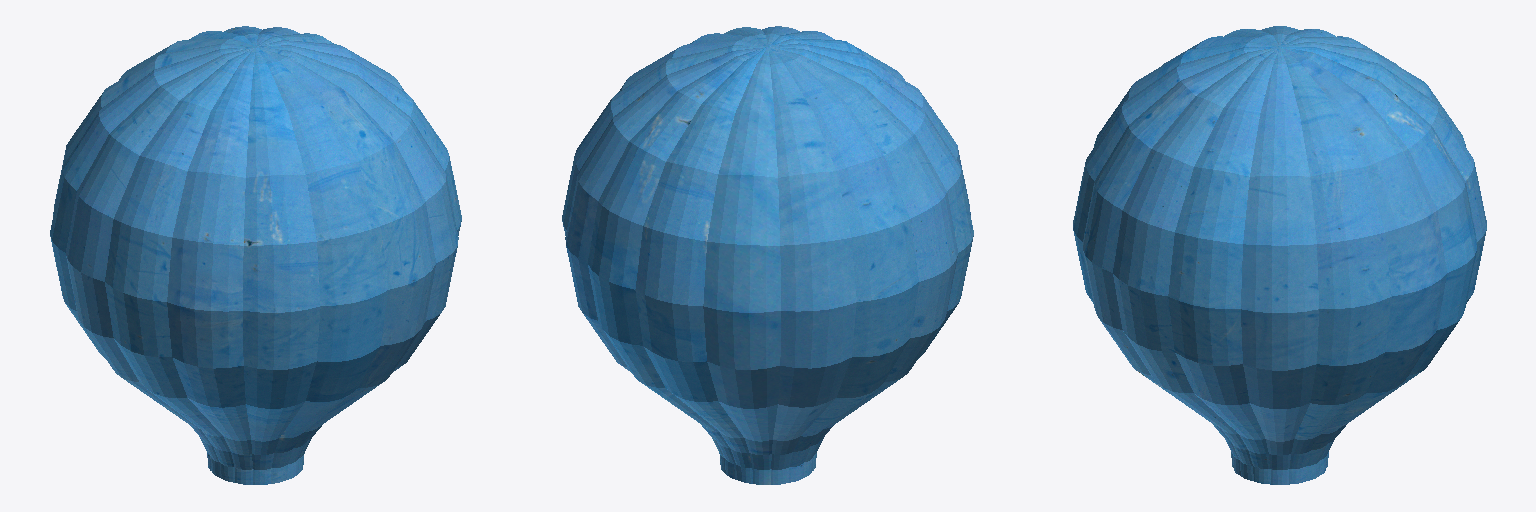
3 views of the same model, side by side, from view 1: azimuth 30°, elevation 25°; view 2: azimuth 150°, elevation 25°; view 3: azimuth 270°, elevation 25° (orthographic).
Visible parts, largest first — view 1: Circle.006; view 2: Circle.006; view 3: Circle.006.
Boxes of the visible parts, x1,y1,x2,y2 form: Circle.006: [50, 26, 461, 484]; Circle.006: [562, 26, 973, 484]; Circle.006: [1073, 26, 1486, 484].
Size of the model in its own units: 6.2 by 6.91 by 6.2.
1 materials, 1 textured.